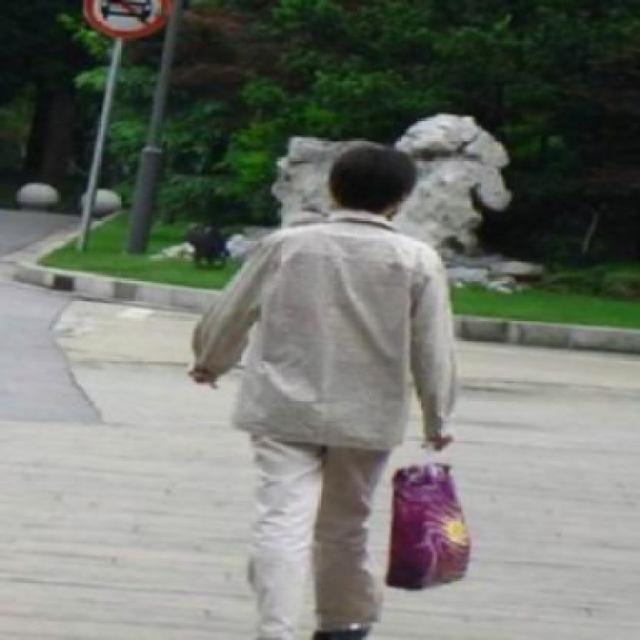Person: (191, 137, 464, 638)
